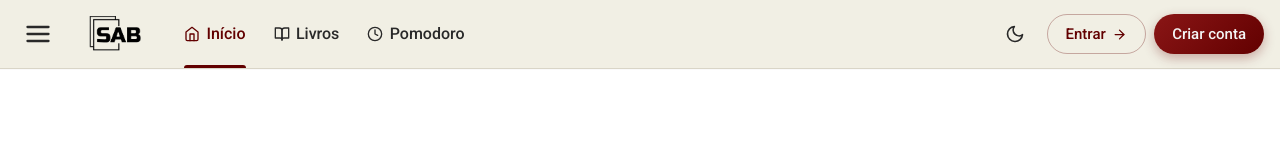
Test: MyHeader › abre o menu mobile e fecha com Esc devolvendo o foco
Step 1. Click the button named "Abrir menu" → click(38, 34), box [16,12,60,56]
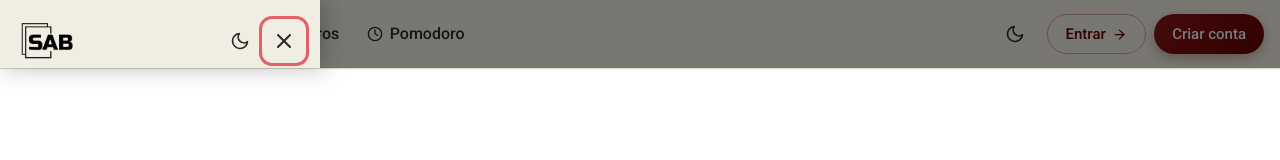
Now the button named "Abrir menu" is expanded, box [16,12,60,56]
Step 2. Press Escape
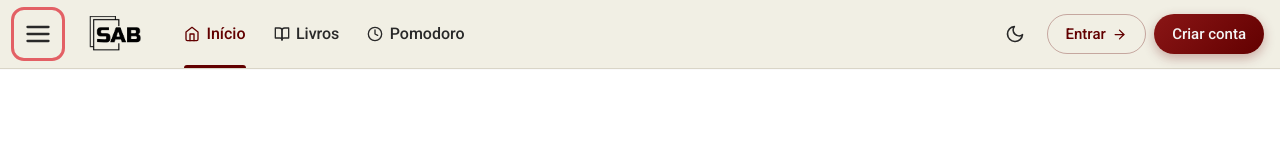
Now the button named "Abrir menu" is collapsed, box [16,12,60,56]
